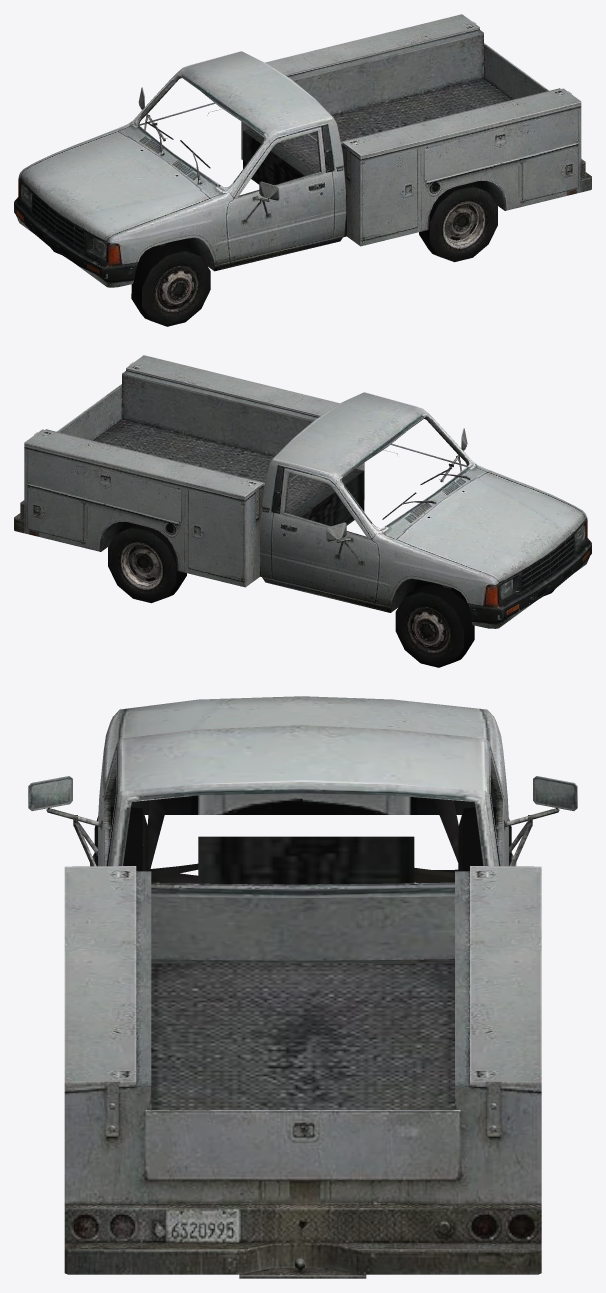
The model's file is utility_truck.glb.
3 renders of one model, top to bottom at view 1: azimuth 30°, elevation 25°; view 2: azimuth 150°, elevation 25°; view 3: azimuth 270°, elevation 25°, orthographic. The views are drawn at different scales.
Visible parts, largest first — view 1: 0_utility_truck; view 2: 0_utility_truck; view 3: 0_utility_truck, 1_truck001c_01.
Part boxes in pixels (box(x1,y1,x2,y2)): 0_utility_truck: box(14, 14, 591, 326); 0_utility_truck: box(14, 355, 591, 667); 0_utility_truck: box(28, 696, 577, 1278); 1_truck001c_01: box(147, 798, 458, 883).
Size of the model in its own units: 5.3 by 1.79 by 2.61.
Materials: 2 (2 with a texture image).
